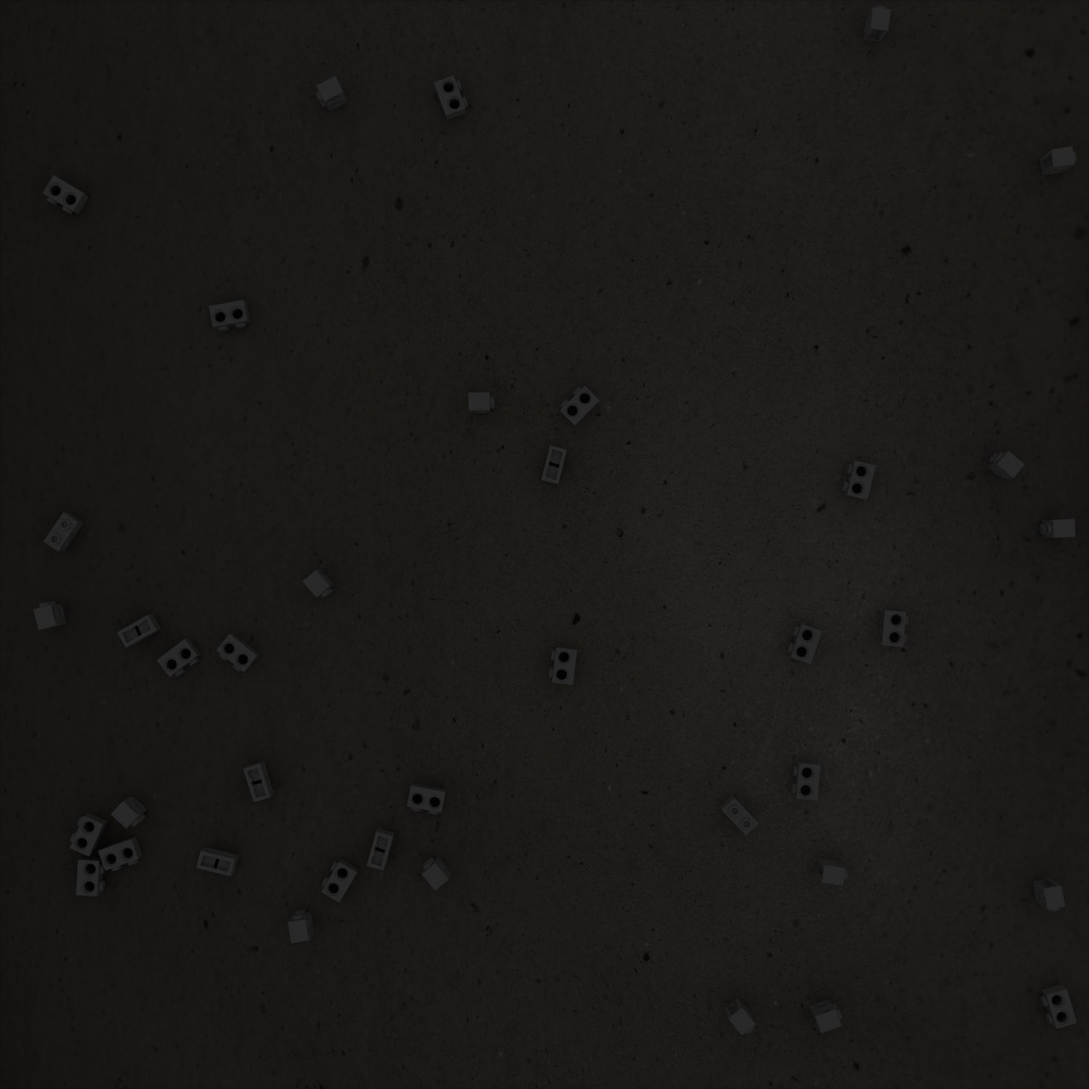lego: (43, 175, 89, 215), (216, 633, 260, 672), (157, 638, 201, 677), (321, 858, 359, 903), (70, 813, 108, 857), (719, 795, 759, 836), (560, 386, 600, 427), (1041, 984, 1077, 1029), (98, 836, 143, 872), (43, 512, 84, 551), (434, 75, 468, 120), (117, 614, 162, 648), (787, 623, 822, 664), (243, 760, 274, 803), (842, 461, 876, 500), (209, 300, 251, 331), (407, 783, 447, 815), (111, 795, 148, 829), (724, 997, 756, 1036), (366, 828, 395, 871), (196, 847, 239, 876), (76, 856, 106, 896), (791, 761, 821, 801), (878, 609, 909, 647), (809, 999, 842, 1033), (1032, 878, 1065, 912), (316, 76, 348, 111), (987, 451, 1025, 480), (549, 646, 577, 685), (1040, 146, 1076, 176), (541, 445, 567, 485), (422, 856, 451, 891), (863, 6, 891, 42), (33, 601, 67, 630), (302, 569, 335, 598), (816, 858, 848, 886), (288, 909, 314, 943), (1040, 519, 1075, 538), (468, 392, 495, 413)
